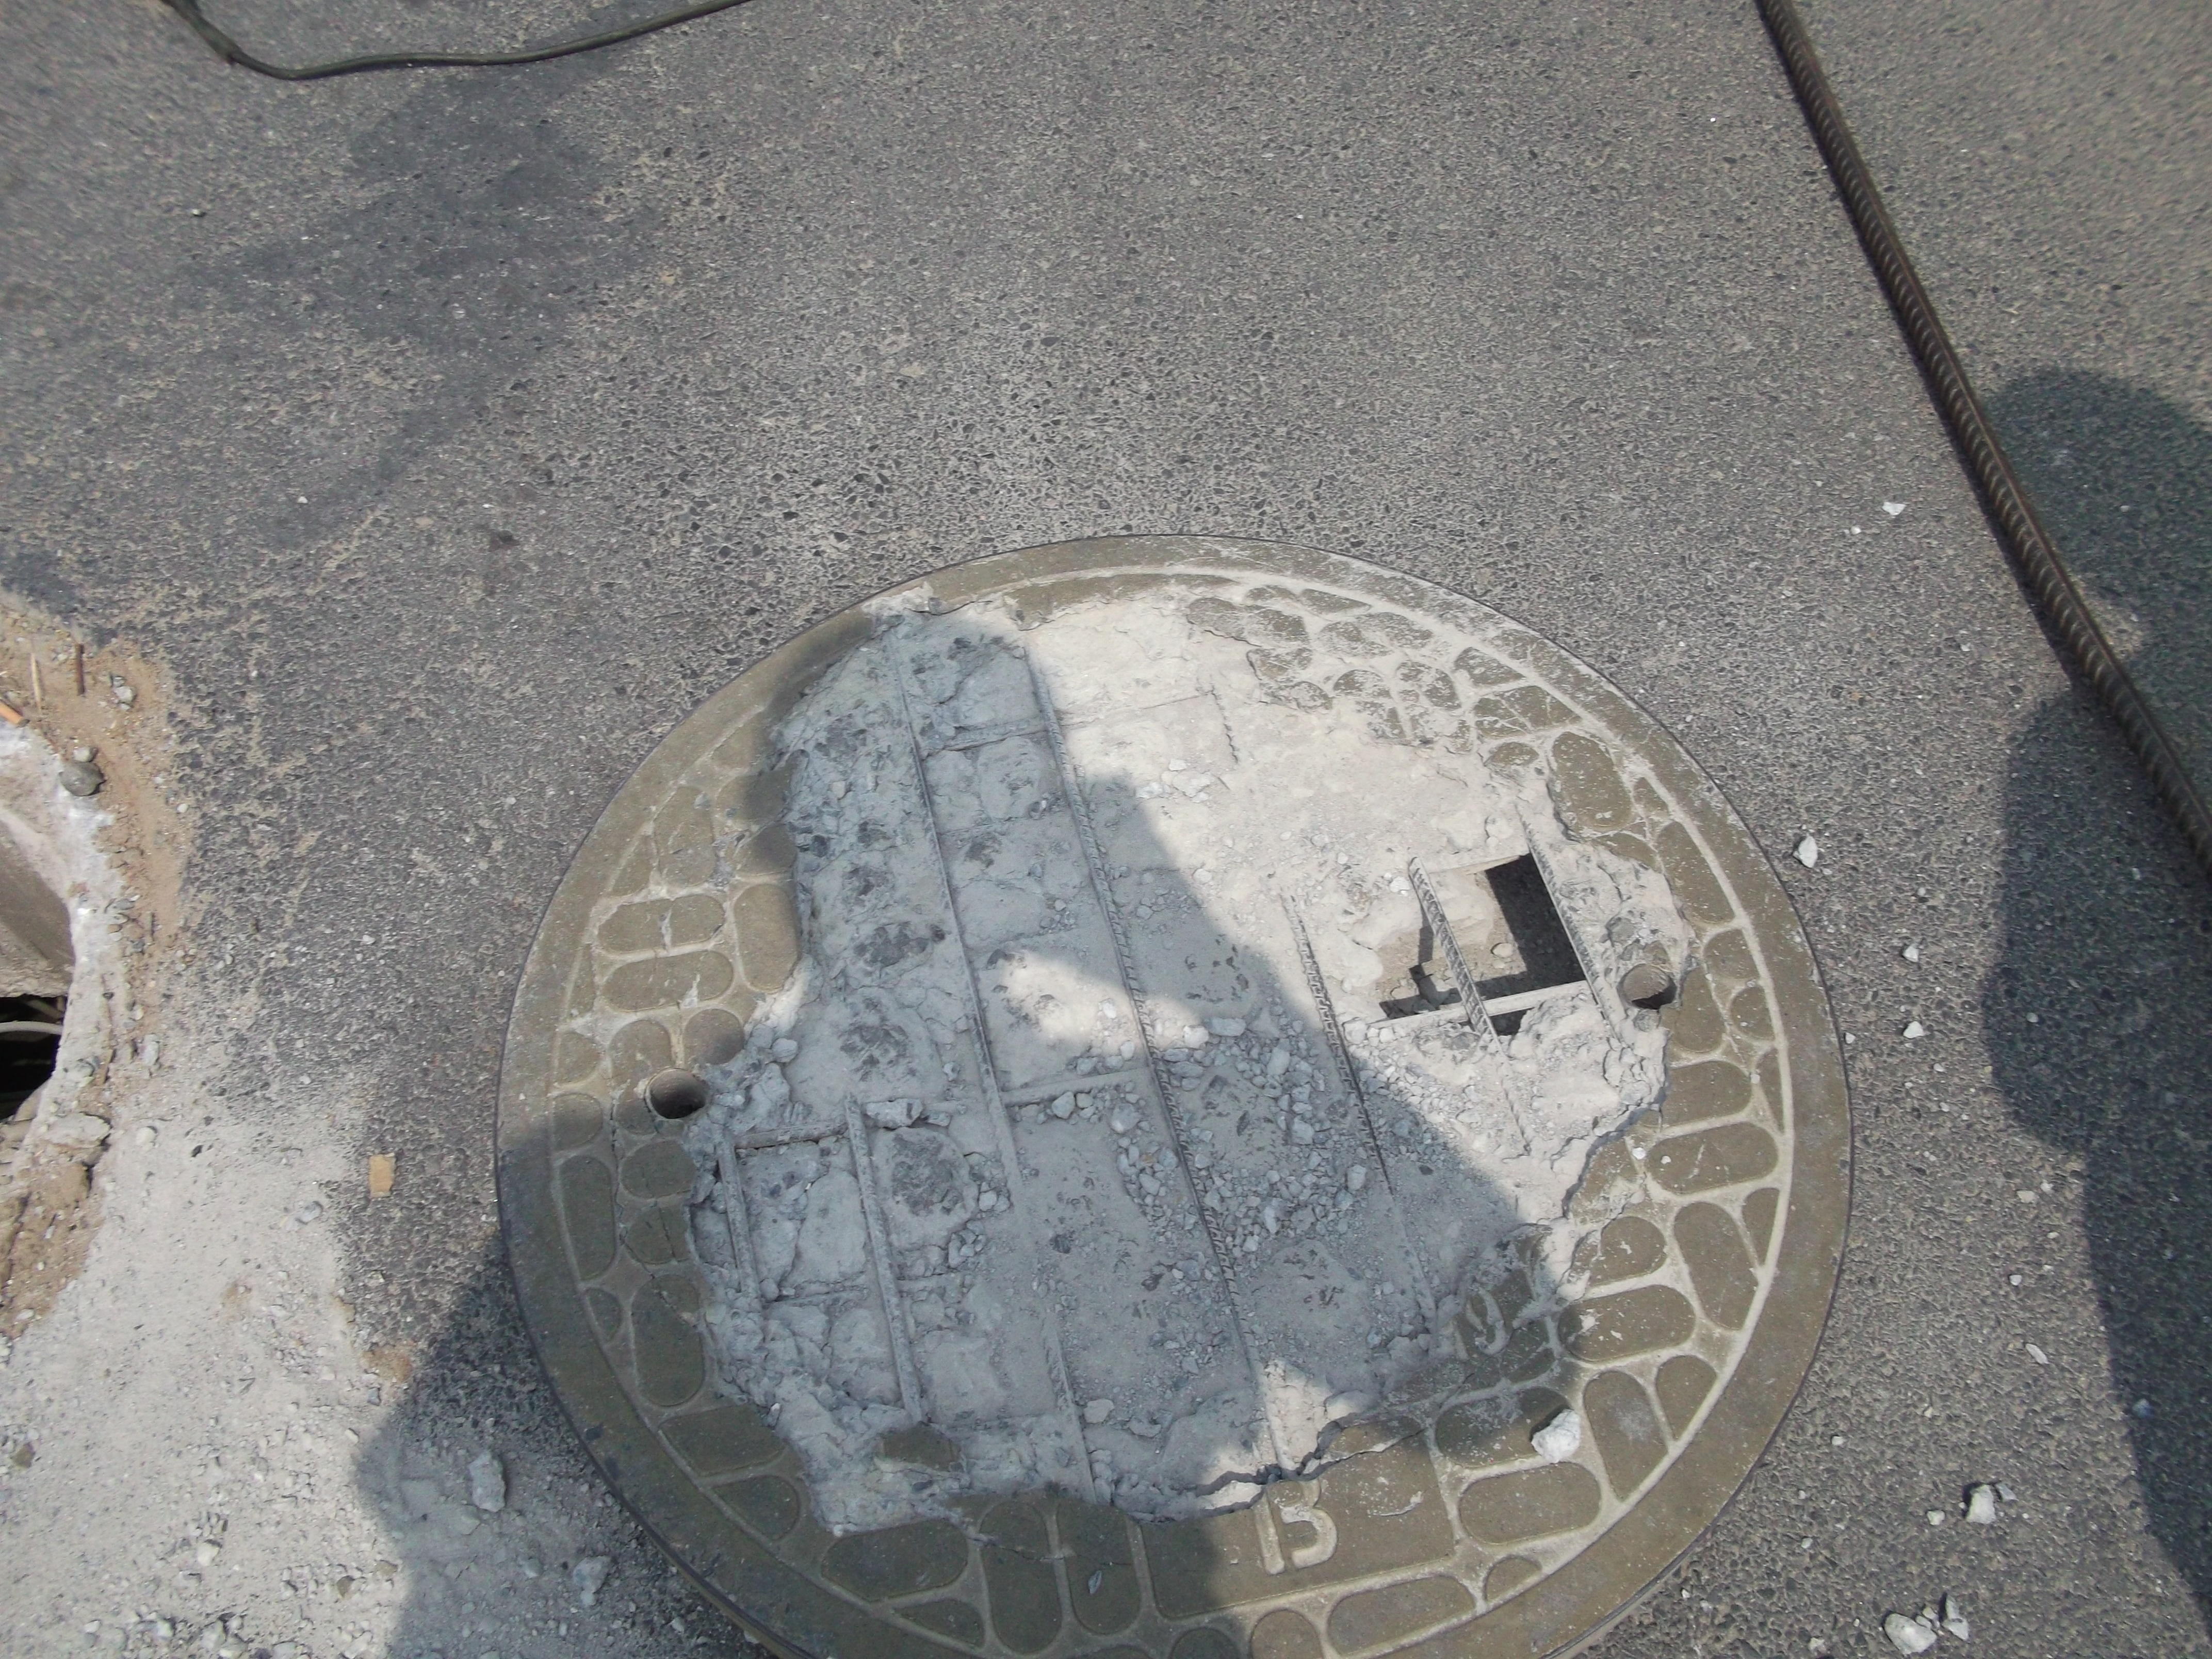broke: (486, 521, 1862, 1659)
